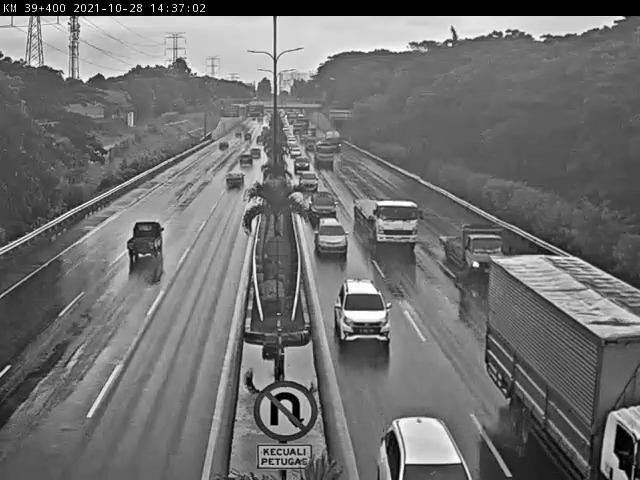big truck: (479, 251, 640, 480), (353, 198, 424, 251)
car: (371, 390, 464, 480), (340, 275, 388, 348), (116, 212, 174, 267), (316, 212, 349, 251), (222, 172, 245, 196), (313, 187, 333, 213)
small truck: (441, 218, 492, 270)
